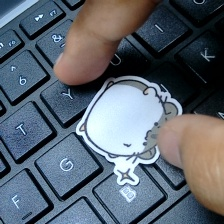mouse: (72, 75, 184, 186)
